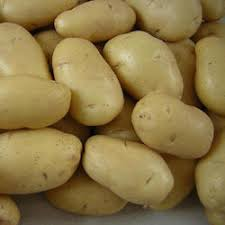potato: (131, 87, 225, 172), (83, 134, 165, 208), (47, 36, 116, 123), (106, 27, 180, 100), (1, 131, 77, 188), (4, 70, 74, 124), (1, 21, 50, 75), (56, 1, 122, 33)
